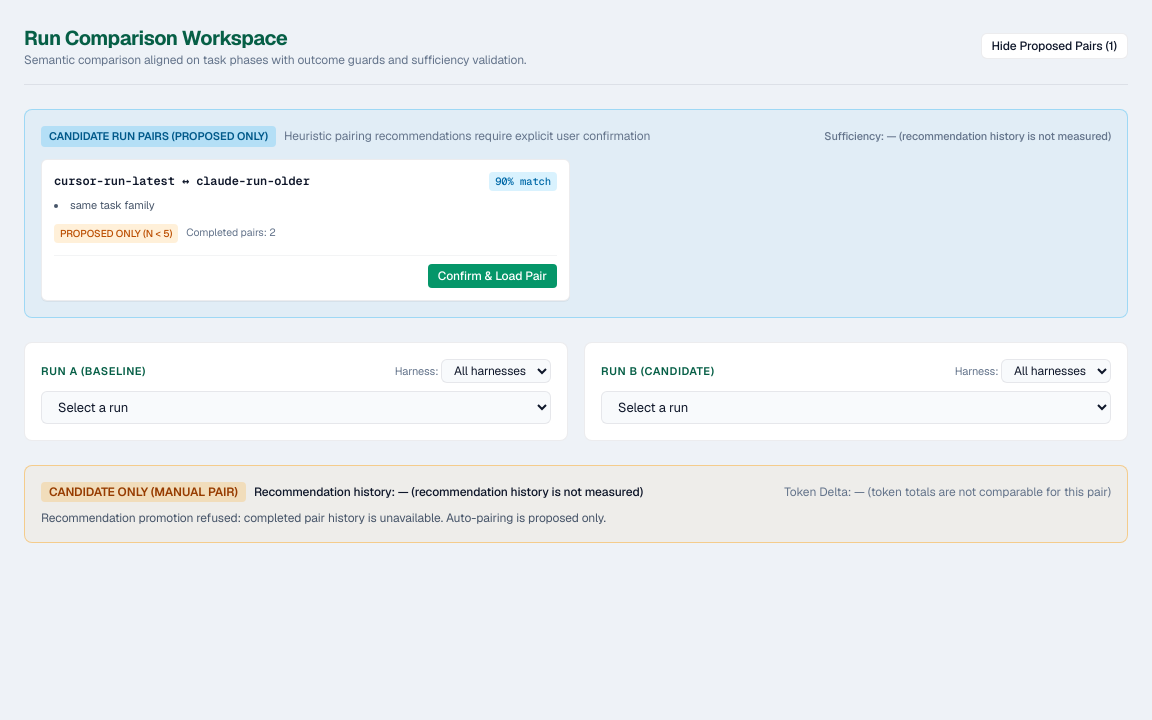
Scenario: CompareRuns: confirm pair clears harness filters (#190) › loads a proposed pair that the active harness filter would have excluded
// Restrict Run A to claude-code so cursor-run-latest is filtered out.
Select "claude-code" in the dropdown with test id "compare-run-a-harness-filter" at (496, 371), box [441,359,551,383]
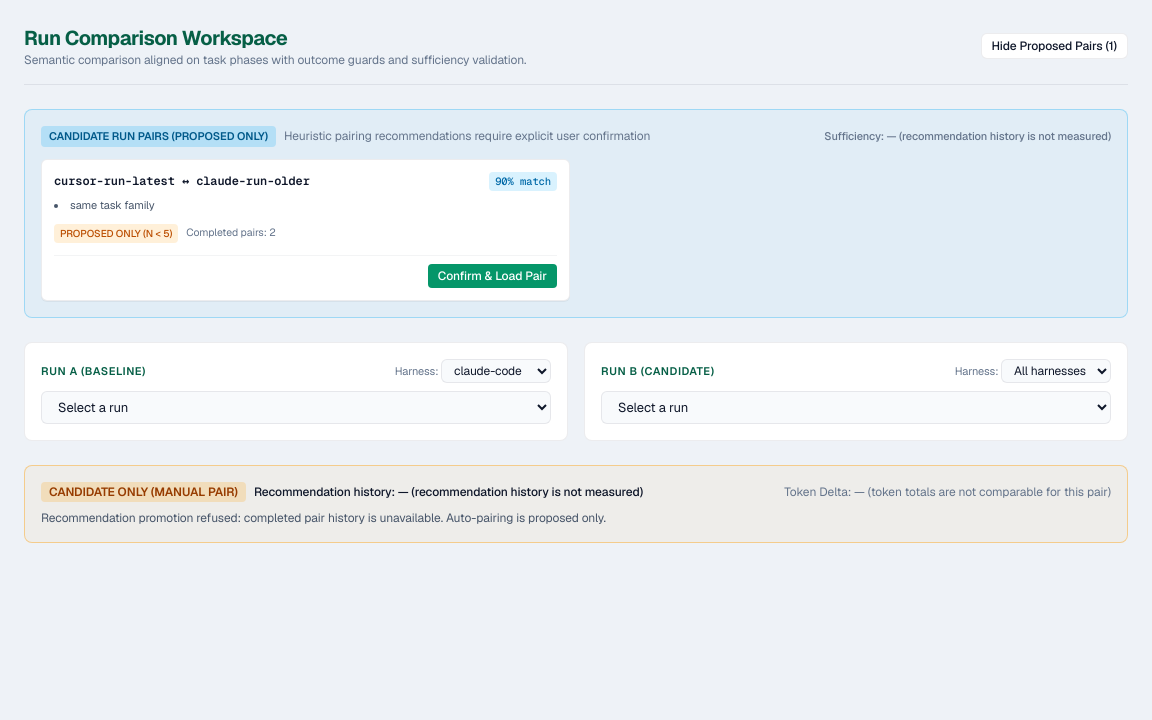
// Drawer starts open when proposed pairs are supplied.
Click the button "Confirm & Load Pair".
click(492, 276)  # box [428,264,557,288]
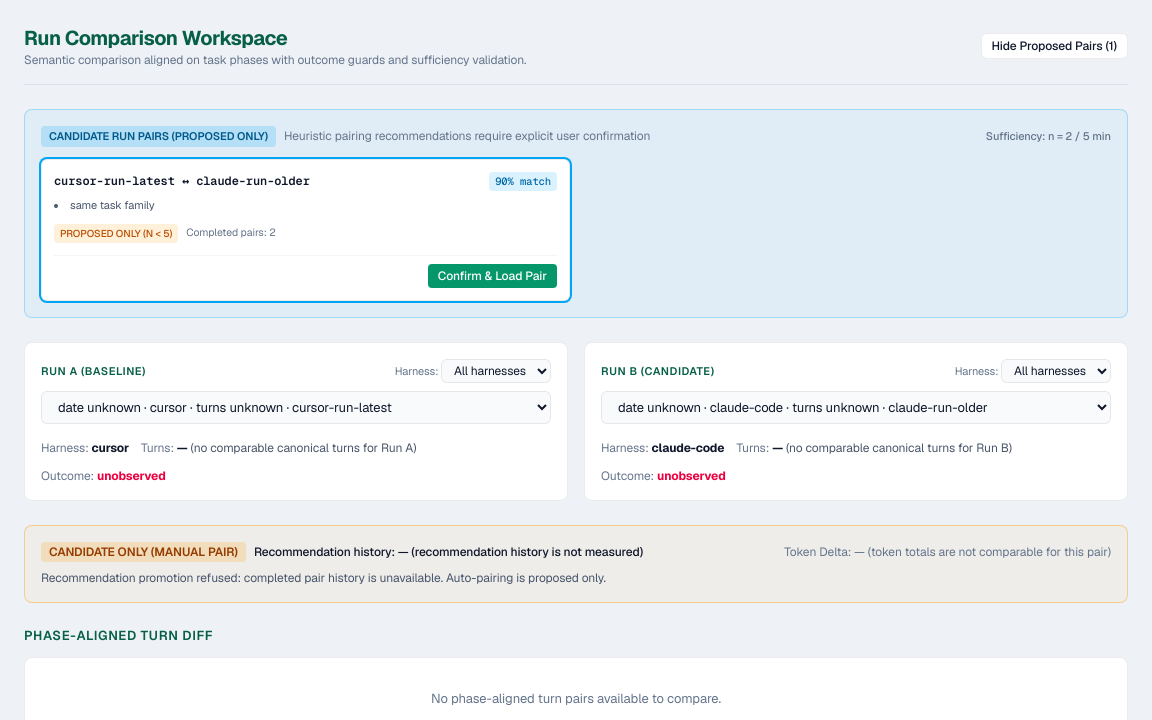
Check: the dropdown with test id "compare-run-a" shows "date unknown · cursor · turns unknown · cursor-run-latest", box [41,391,551,424]
Check: the dropdown with test id "compare-run-b" shows "date unknown · claude-code · turns unknown · claude-run-older", box [601,391,1111,424]
